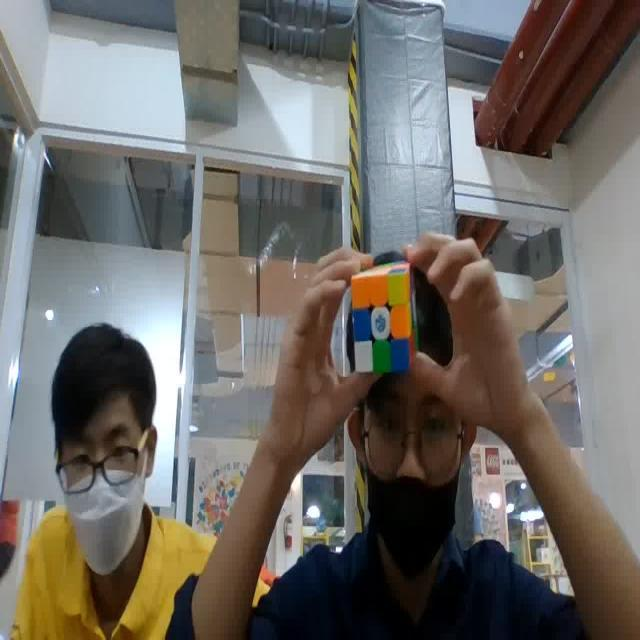Rub: (346, 258, 420, 377)
